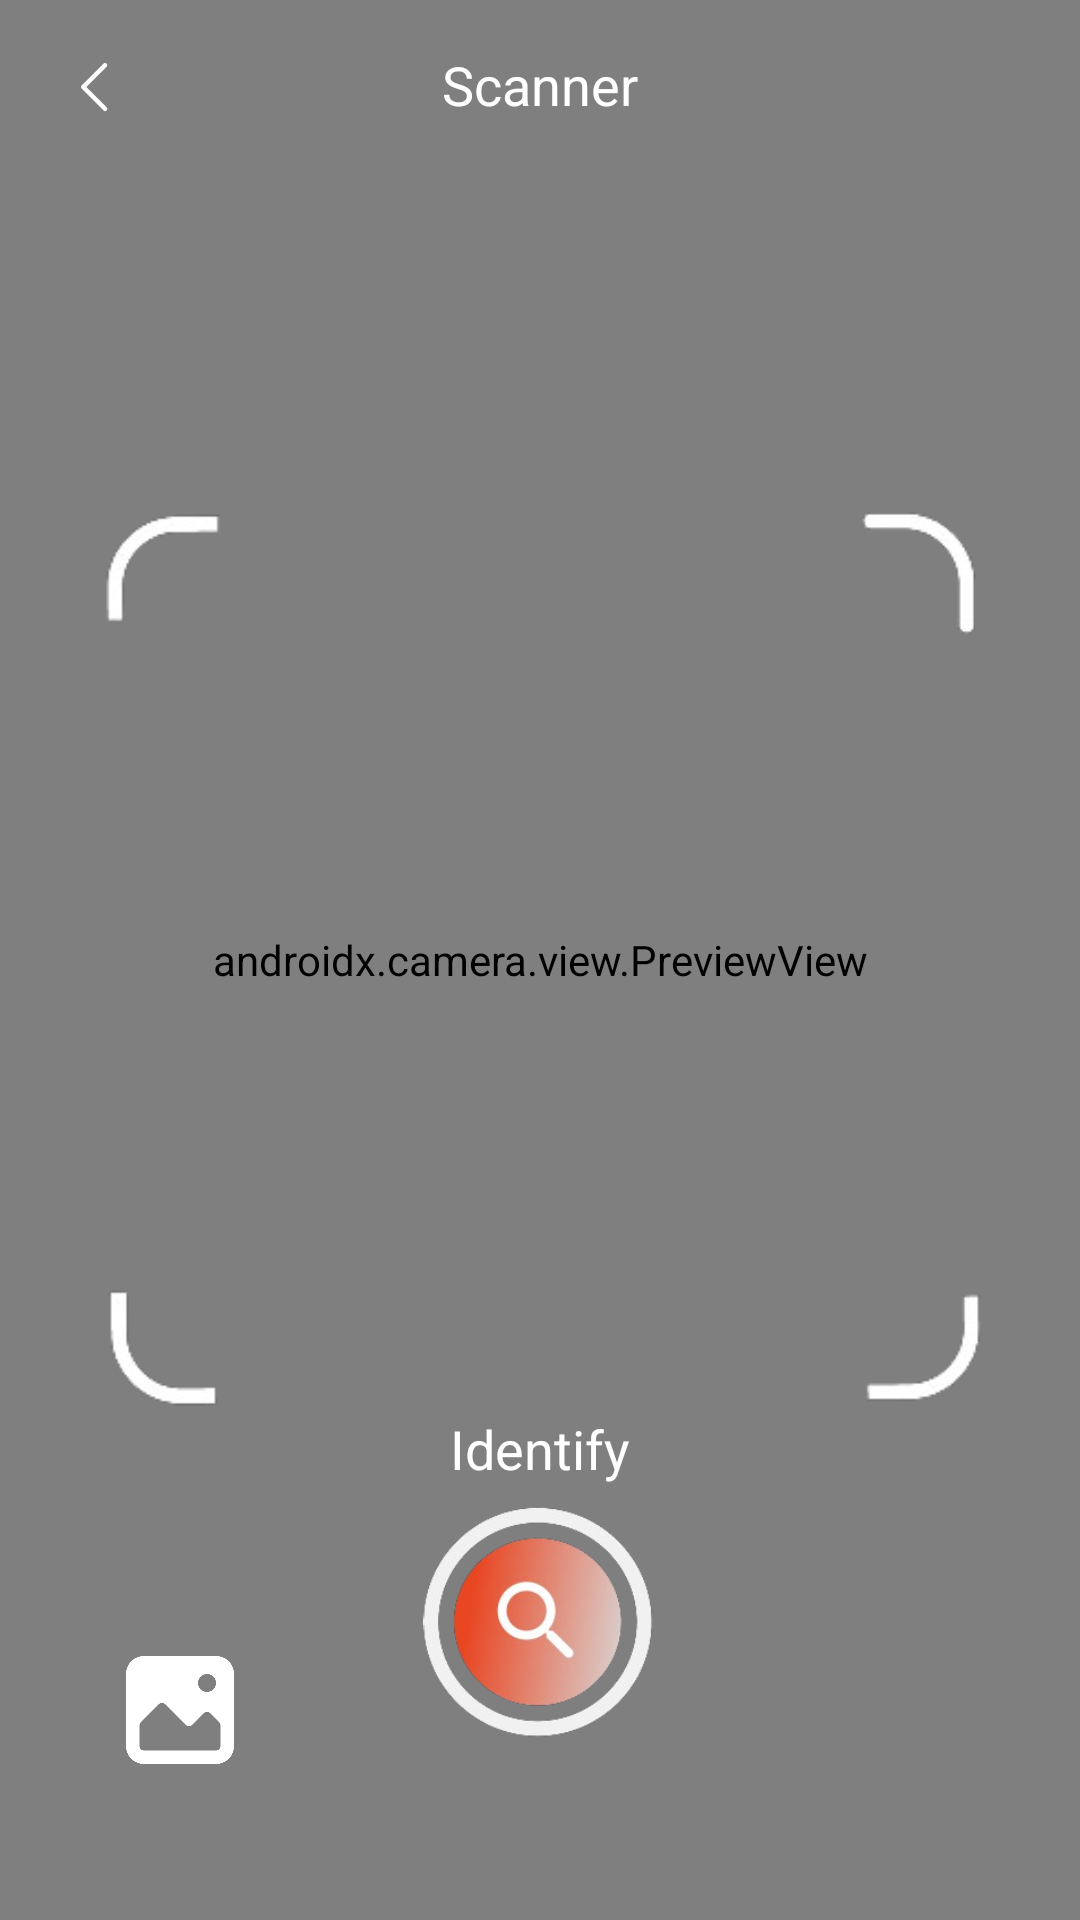

Icon click points for this 1080×1920 phone screenshot, format (x,y):
Back: (94,87)
gallery: (180,1710)
